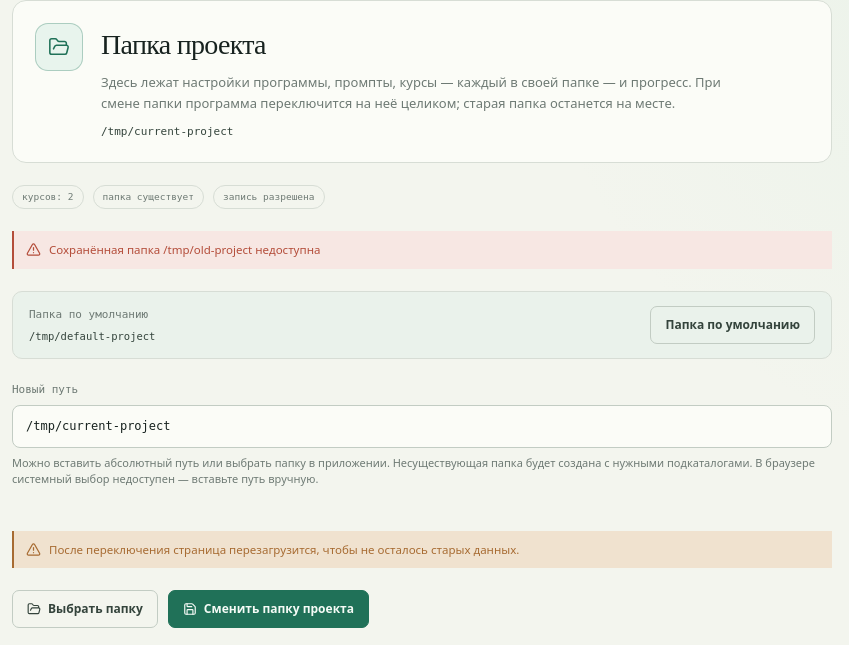
Test: ProjectTab › shows the default folder and the fallback warning
Expected: the text "/tmp/default-project" is shown, 29,328 -> 155,344
Expected: the text "Сохранённая папка /tmp/old-project недоступна" is shown, 49,241 -> 320,259
Click the button "Папка по умолчанию" at (733, 325), box 650,306 -> 815,344
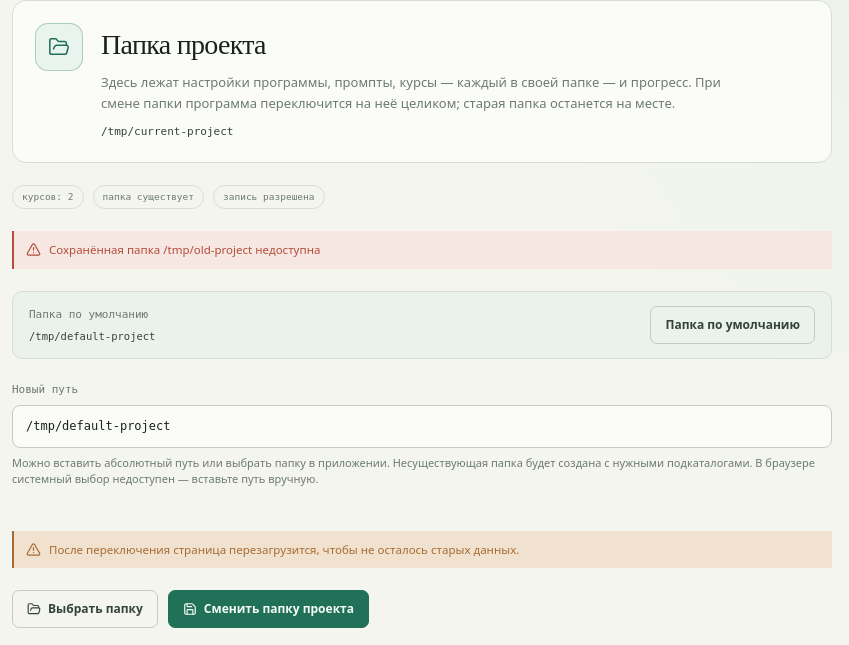
Expected: the field named "Путь к папке проекта" holds "/tmp/default-project", 12,405 -> 832,448
